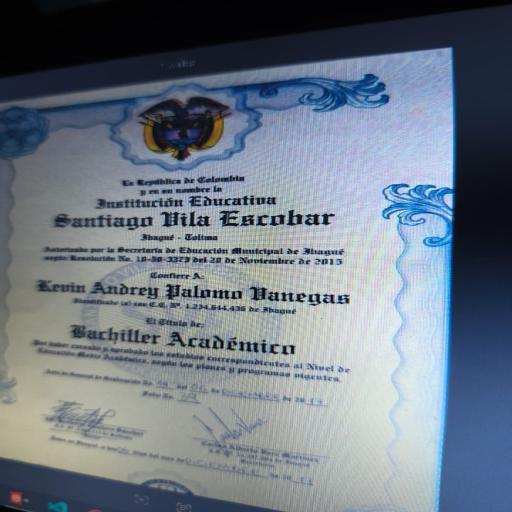bachillerato: (52, 320, 308, 363)
diploma: (2, 50, 452, 511)
escudo: (119, 89, 256, 172)
firma: (152, 404, 353, 480), (26, 391, 161, 449)
institucion: (36, 188, 363, 235)
nombre: (19, 265, 365, 313)
